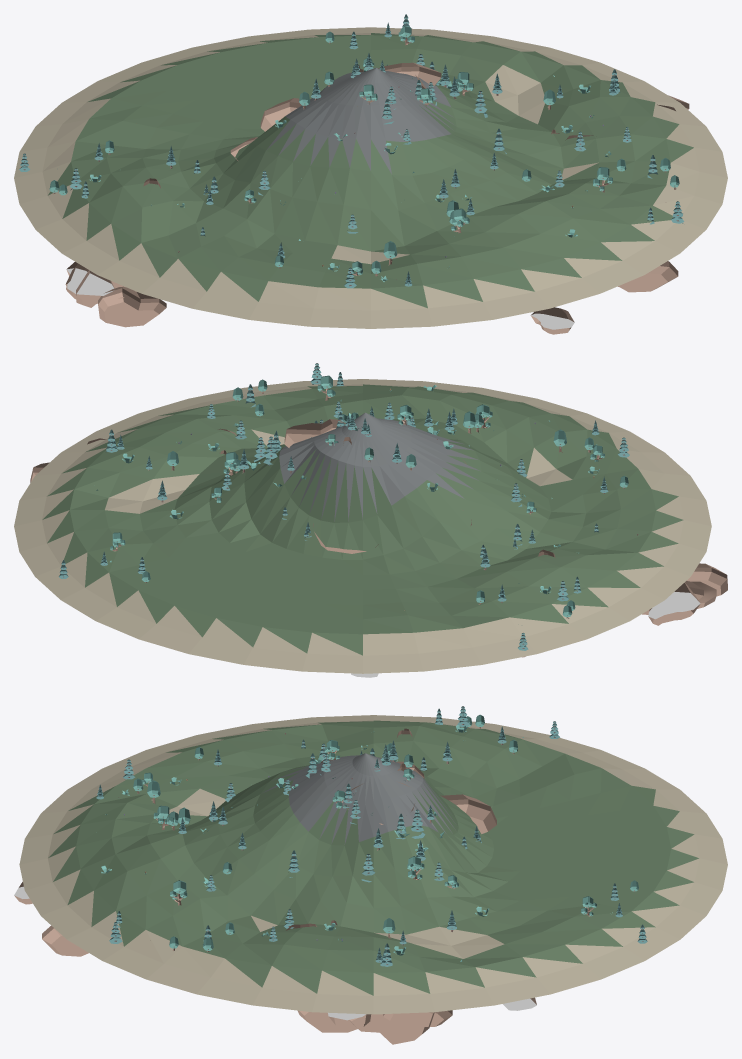
File: freeport_lod0.glb
The picture shows the model from 3 angles, top to bottom: view 1: azimuth 30°, elevation 25°; view 2: azimuth 150°, elevation 25°; view 3: azimuth 270°, elevation 25°; orthographic projection. The views are drawn at different scales.
Bounding box in the file's own units: 2.12 × 0.4658 × 2.02.
